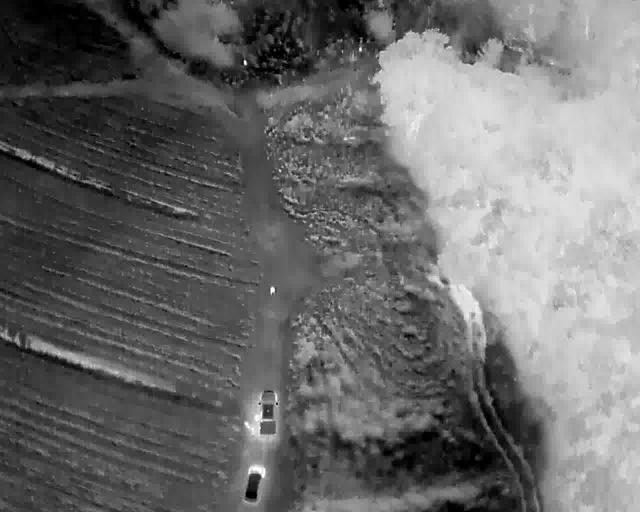car: (257, 389, 279, 435), (245, 463, 263, 503)
person: (252, 412, 259, 424), (269, 285, 275, 297), (243, 418, 249, 430), (249, 425, 255, 437)
